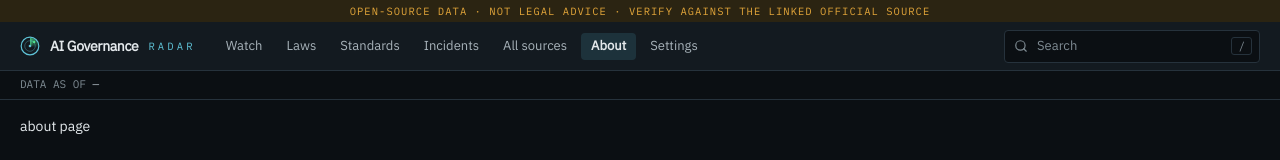
Test: Shell › survives navigation when scrollTo returns a Promise (as newer Chromium does)
The width and height of the screenshot is (1280, 160).
Expected: the text "about page" is shown, [20,117,90,135]
Step 1. Click the link "Watch" → (244, 46), box [226,37,262,54]
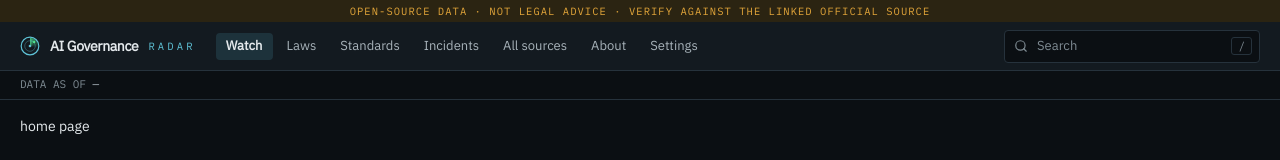
Expected: the text "home page" is shown, [20,117,90,135]
